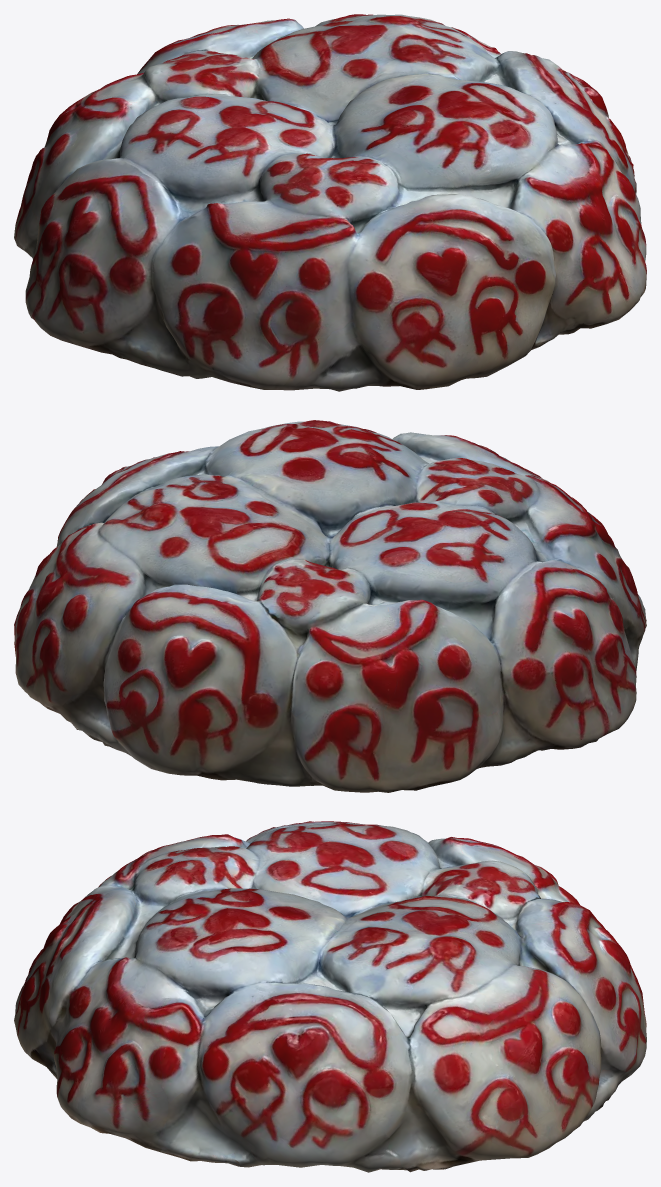
File: todo-lo-que-soy-nada.glb
3 renders of one model, top to bottom at view 1: azimuth 30°, elevation 25°; view 2: azimuth 150°, elevation 25°; view 3: azimuth 270°, elevation 25°, orthographic. The views are drawn at different scales.
Visible parts, largest first — view 1: submesh; view 2: submesh; view 3: submesh.
Boxes of the visible parts, x1,y1,x2,y2 form: submesh: [14, 14, 646, 391]; submesh: [14, 420, 646, 792]; submesh: [14, 821, 646, 1172].
Size of the model in its own units: 0.1632 by 0.0503 by 0.1619.
Materials: 1 (1 with a texture image).
